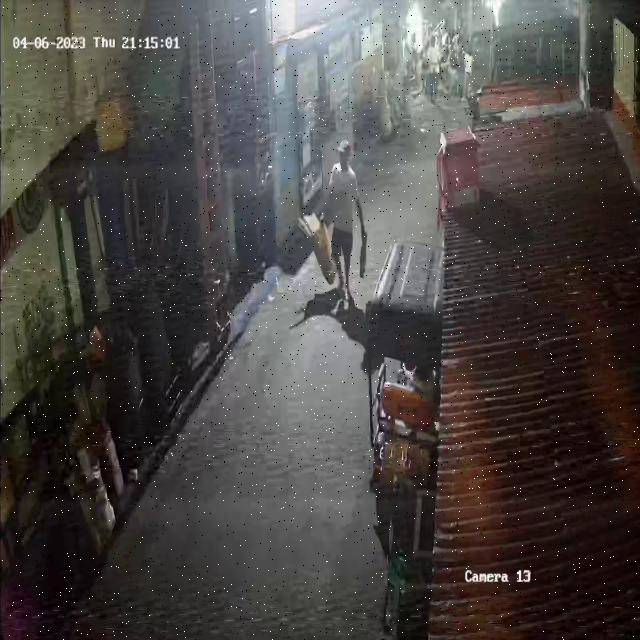garbage_dumping: (302, 208, 336, 289), (362, 236, 369, 280)
